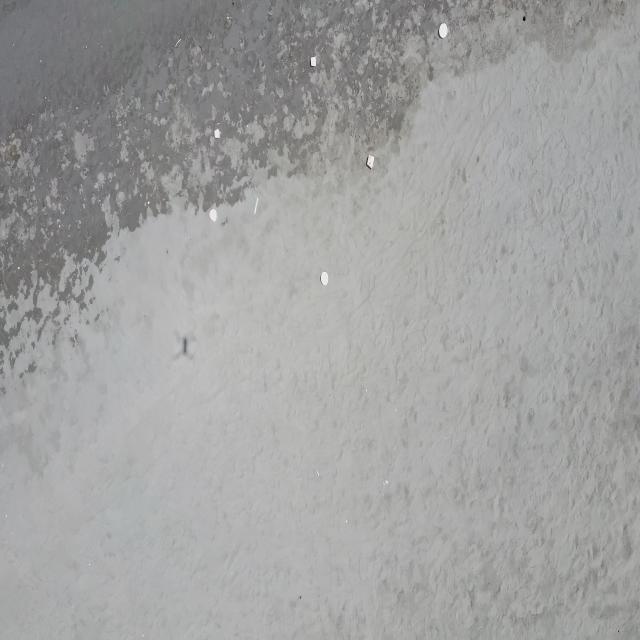take-away-containers: (438, 21, 448, 40), (320, 270, 330, 288), (366, 154, 375, 170), (209, 208, 218, 222), (310, 55, 317, 69), (214, 128, 220, 140)
takeaway-cup: (252, 197, 260, 216)
